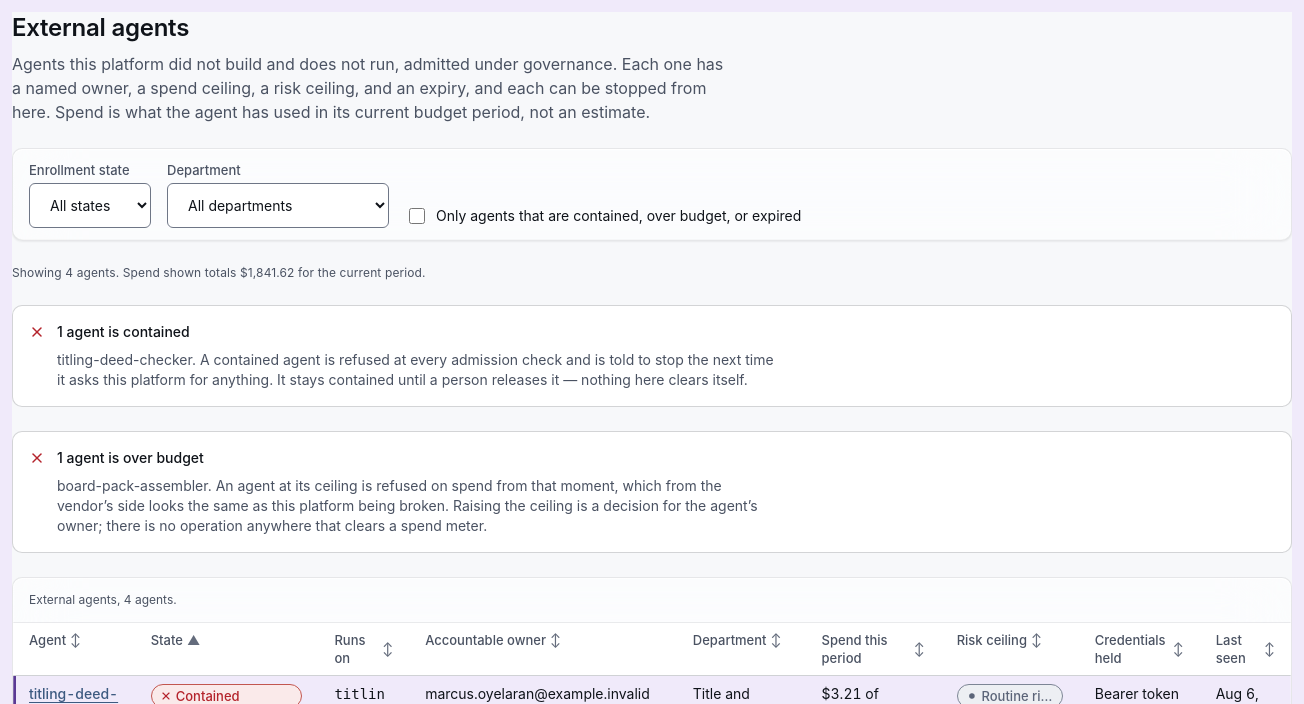
Test: ExternalAgents › announces the filtered count so a filter is heard and not only seen
Expected: the message shows "Showing 4 agents", 12,265 -> 426,280
Select "Contained" in the dropdown labelled "Enrollment state" at x=90, y=206, box 29,183 -> 151,228
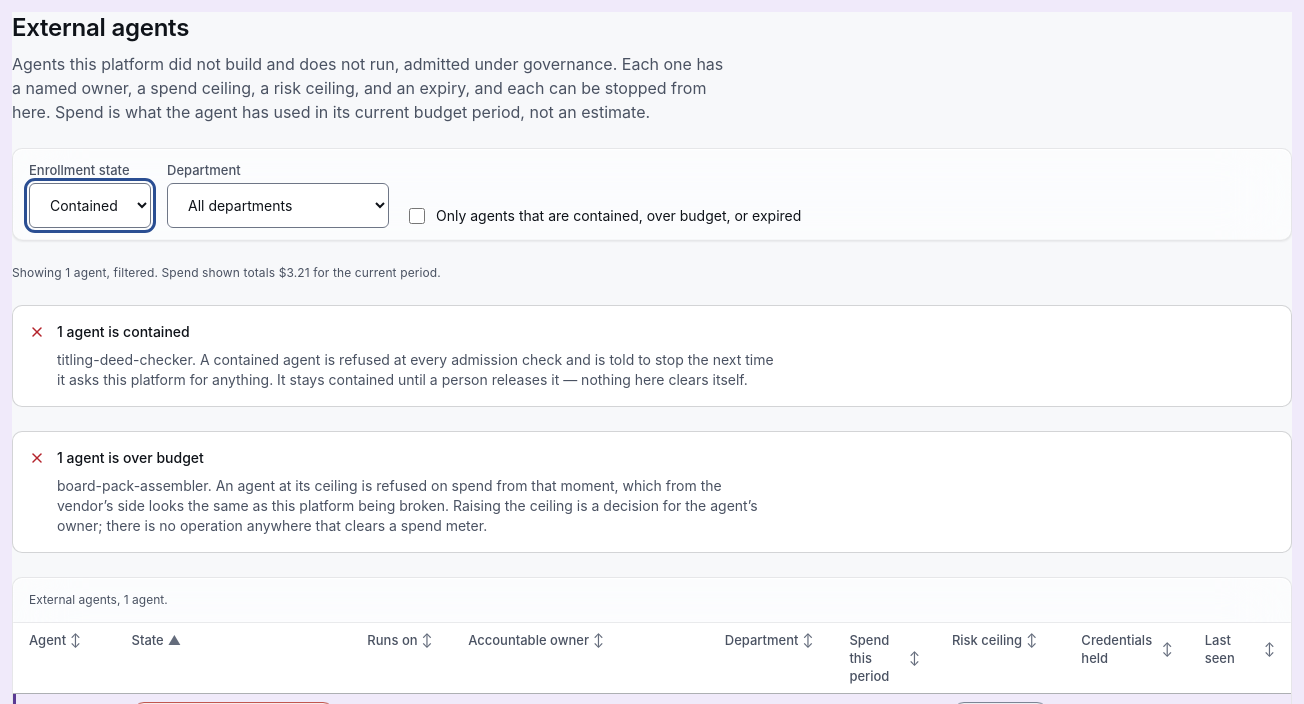
Expected: the message shows "Showing 1 agent", 12,265 -> 441,280
Expected: the message shows "filtered", 106,265 -> 154,280
